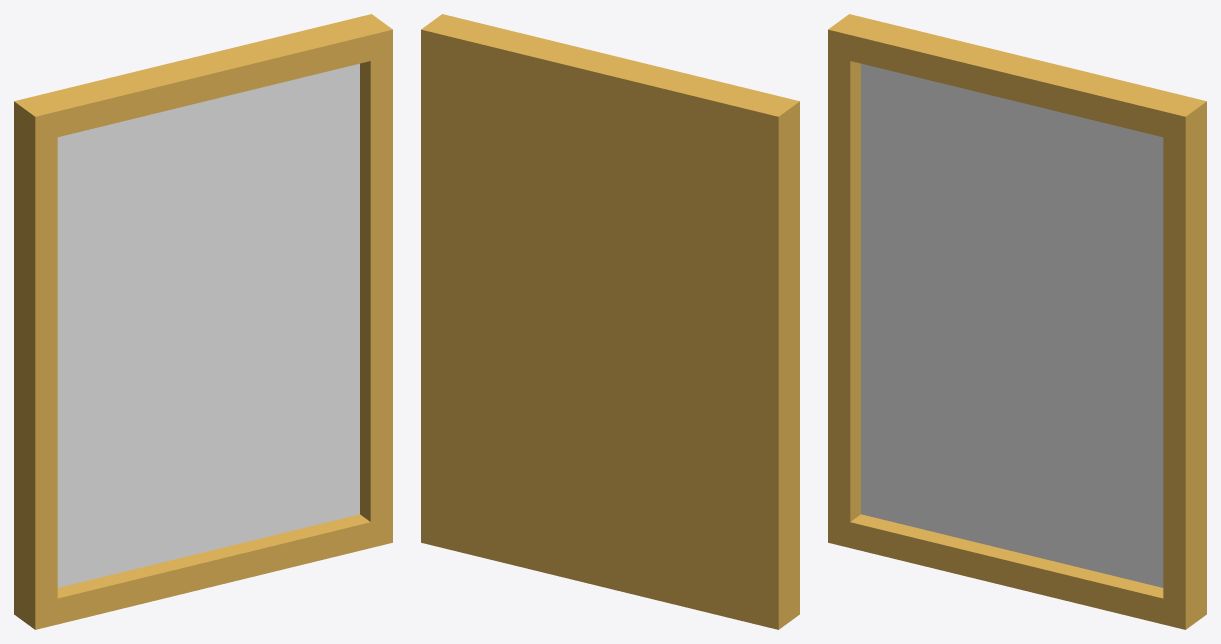
File: Cadre_Bois.fbx
3 renders of one model, left to right at view 1: azimuth 30°, elevation 25°; view 2: azimuth 150°, elevation 25°; view 3: azimuth 330°, elevation 25°, orthographic.
Visible parts, largest first — view 1: Picture, Border; view 2: Border; view 3: Picture, Border.
Boxes of the visible parts, x1,y1,x2,y2 form: Picture: [57, 63, 359, 587]; Border: [14, 14, 392, 629]; Border: [421, 14, 799, 629]; Picture: [861, 63, 1163, 587]; Border: [828, 14, 1206, 629].
Bounding box in the file's own units: 30 × 41.13 × 3.09.
